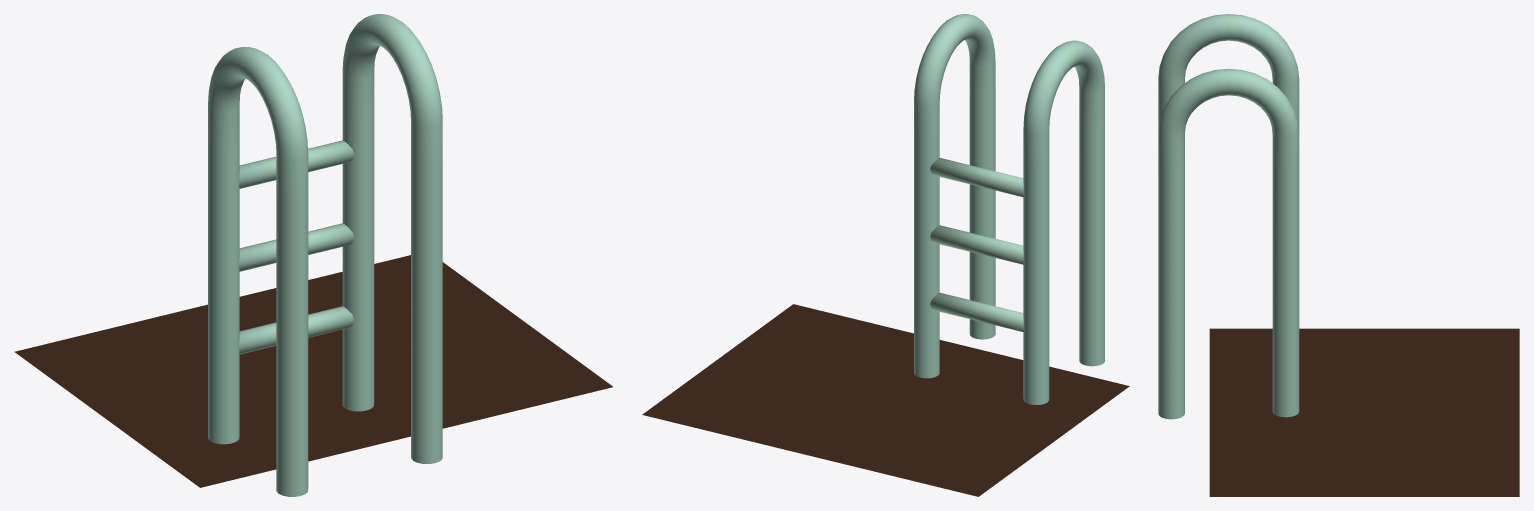
Rendered from pool_ladder.glb.
The picture shows the model from 3 angles, left to right: view 1: azimuth 30°, elevation 25°; view 2: azimuth 150°, elevation 25°; view 3: azimuth 270°, elevation 25°; orthographic projection. The views are drawn at different scales.
Parts seen in each view (by area): view 1: baked_shadow, rail-1, rail1, rung0, rung1, rung2; view 2: baked_shadow, rail-1, rail1, rung0, rung1, rung2; view 3: baked_shadow, rail1, rail-1.
Boxes of the visible parts, x1,y1,x2,y2 form: baked_shadow: (14, 255, 612, 487); rail-1: (208, 47, 308, 496); rail1: (342, 14, 442, 463); rung0: (239, 306, 354, 354); rung1: (239, 223, 354, 271); rung2: (239, 140, 354, 188); baked_shadow: (642, 304, 1129, 496); rail-1: (1023, 40, 1104, 404); rail1: (914, 14, 995, 378); rung0: (930, 292, 1023, 331); rung1: (930, 225, 1023, 264); rung2: (930, 157, 1023, 196); baked_shadow: (1209, 328, 1519, 496); rail1: (1158, 68, 1299, 419); rail-1: (1158, 14, 1299, 132).
Size of the model in its own units: 2.09 by 1.99 by 1.9.
Materials: 2 (1 with a texture image).
